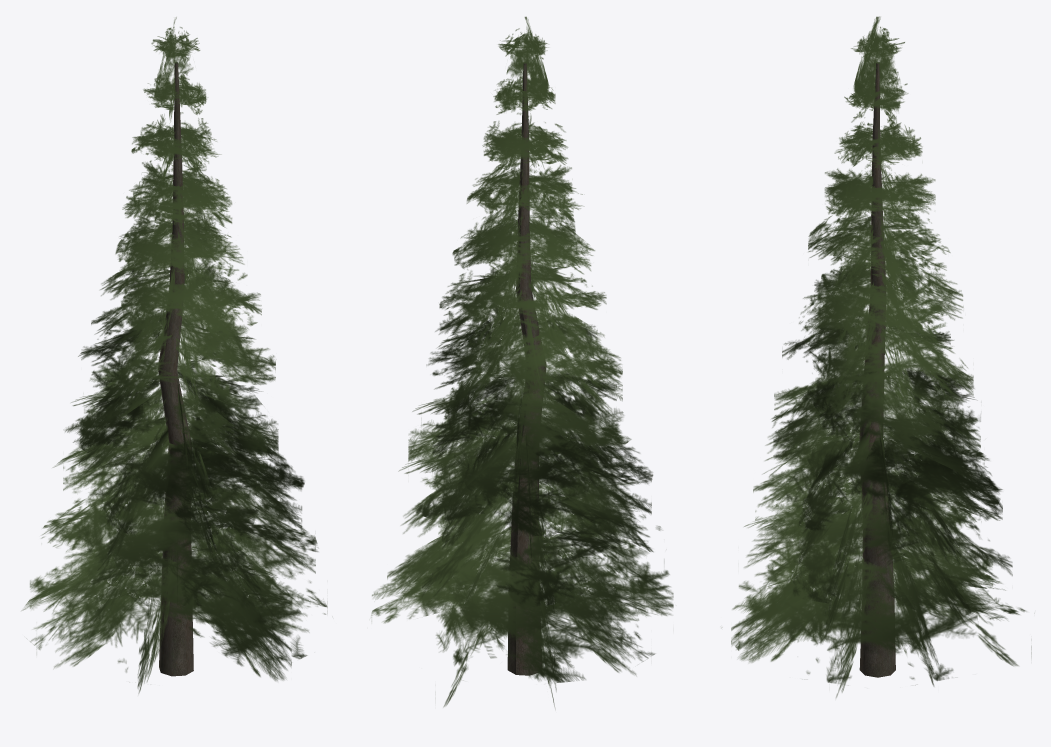
File: conifer.glb
The picture shows the model from 3 angles, left to right: view 1: azimuth 30°, elevation 25°; view 2: azimuth 150°, elevation 25°; view 3: azimuth 270°, elevation 25°; orthographic projection.
Visible parts, largest first — view 1: wood; view 2: wood; view 3: wood.
Part boxes in pixels (box(x1,y1,x2,y2)): wood: box(21, 17, 327, 693); wood: box(371, 16, 673, 706); wood: box(731, 16, 1031, 697).
Bounding box in the file's own units: 5.32 × 11.97 × 5.32.
2 materials, 2 textured.
